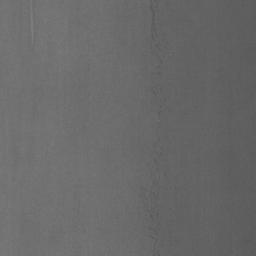Silk spot: (150, 0, 157, 40)
